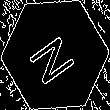N_NE: (26, 24, 84, 86)
